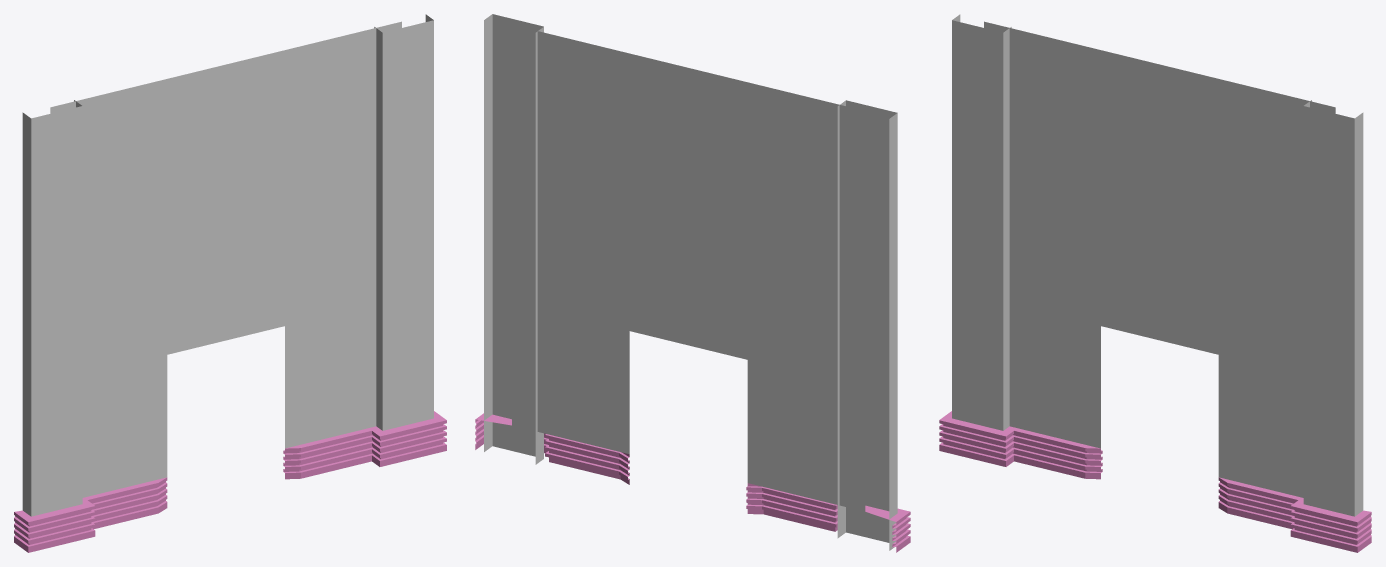
Rendered from Wall2UV.fbx.
3 renders of one model, left to right at view 1: azimuth 30°, elevation 25°; view 2: azimuth 150°, elevation 25°; view 3: azimuth 330°, elevation 25°, orthographic.
Visible parts, largest first — view 1: Cube.008; view 2: Cube.008; view 3: Cube.008.
Part boxes in pixels (x1,y1,x2,y2): Cube.008: (14, 14, 446, 552); Cube.008: (475, 14, 910, 552); Cube.008: (939, 14, 1371, 552).
Bounding box in the file's own units: 714 × 701 × 46.69.
